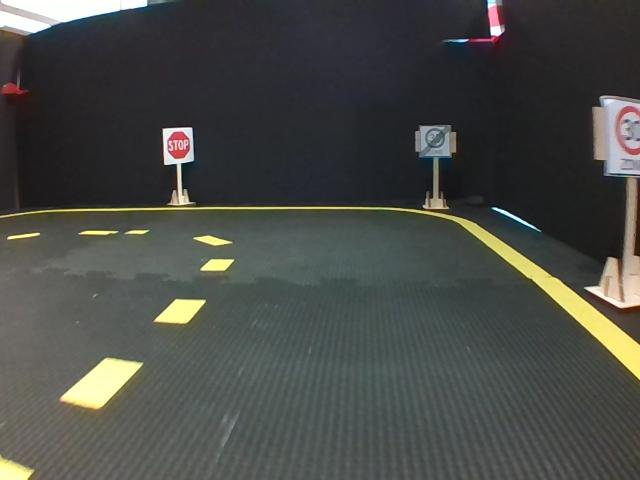30: (604, 96, 640, 174)
no30: (419, 126, 450, 156)
stop: (163, 127, 193, 163)
